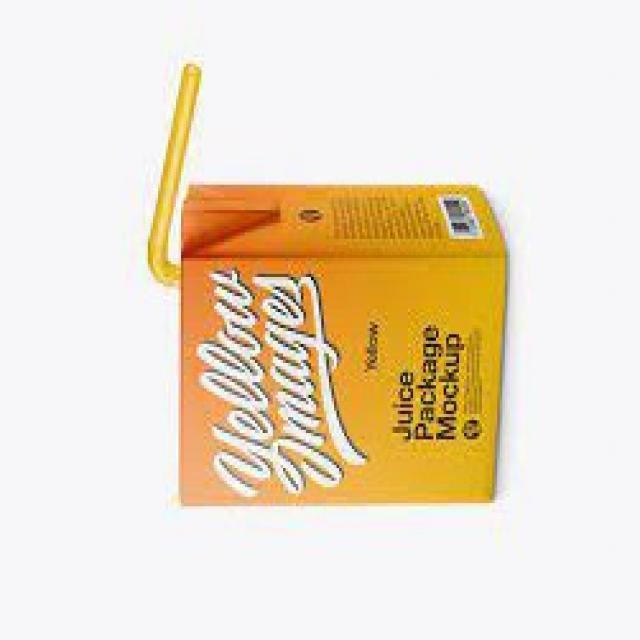non_white_jug: (162, 178, 510, 512)
